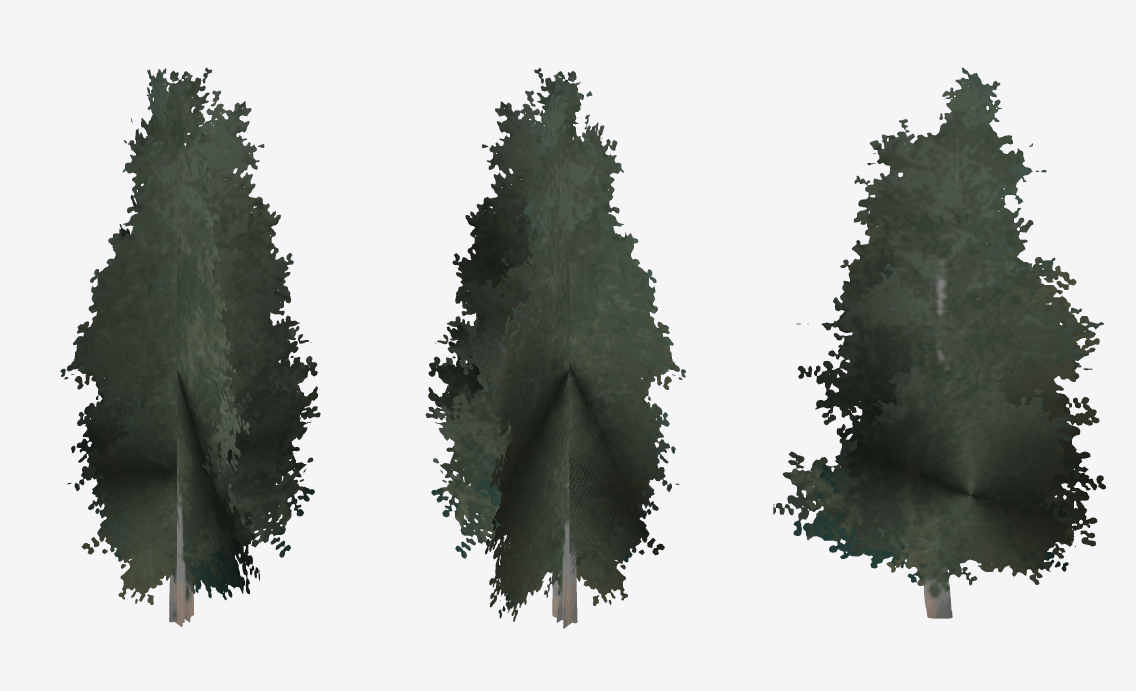
Rendered from trees_lod.glb.
3 views of the same model, side by side, from view 1: azimuth 30°, elevation 25°; view 2: azimuth 150°, elevation 25°; view 3: azimuth 270°, elevation 25° (orthographic).
Parts seen in each view (by area): view 1: Tree_LODs_Tree_03, Tree_LODs_Tree_01, Tree_LODs_Tree_02; view 2: Tree_LODs_Tree_03, Tree_LODs_Tree_01, Tree_LODs_Tree_02; view 3: Tree_LODs_Tree_02, Tree_LODs_Tree_01, Tree_LODs_Tree_03.
Boxes of the visible parts, bbox=[...] form: Tree_LODs_Tree_03: bbox=[60, 67, 311, 626]; Tree_LODs_Tree_01: bbox=[64, 207, 320, 622]; Tree_LODs_Tree_02: bbox=[81, 341, 314, 622]; Tree_LODs_Tree_03: bbox=[434, 68, 685, 628]; Tree_LODs_Tree_01: bbox=[425, 207, 682, 621]; Tree_LODs_Tree_02: bbox=[431, 357, 664, 622]; Tree_LODs_Tree_02: bbox=[826, 355, 1082, 617]; Tree_LODs_Tree_01: bbox=[798, 210, 1105, 561]; Tree_LODs_Tree_03: bbox=[773, 67, 1103, 618].
Size of the model in its own units: 12.56 by 22.72 by 11.32.
1 material, 1 textured.
